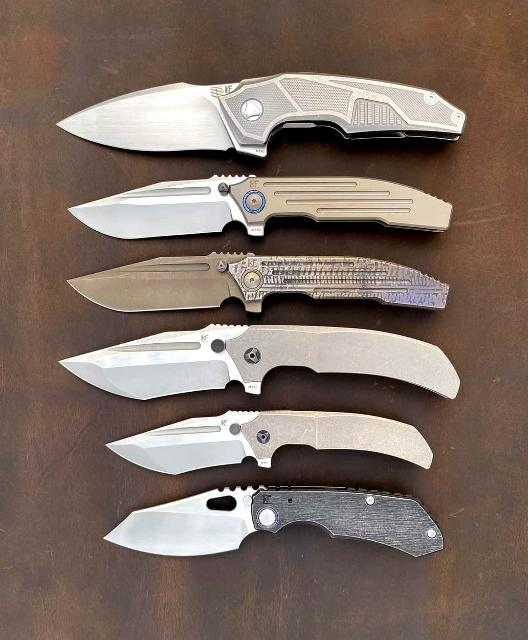pocket-knife: (42, 71, 472, 165), (96, 476, 454, 572), (57, 325, 468, 405), (62, 168, 460, 248), (63, 248, 457, 322), (104, 407, 440, 479)
